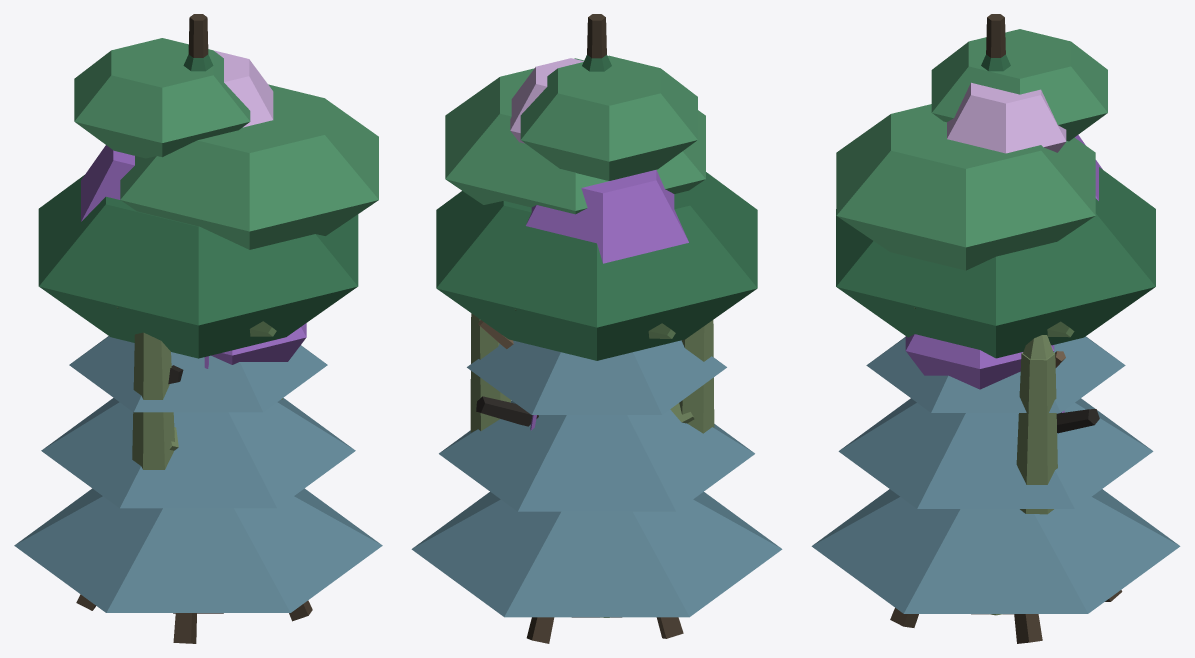
Rendered from biome-flora.glb.
3 views of the same model, side by side, from view 1: azimuth 30°, elevation 25°; view 2: azimuth 150°, elevation 25°; view 3: azimuth 270°, elevation 25° (orthographic).
Parts seen in each view (by area): view 1: canopy-low, tier-0, canopy-mid, tier-1, canopy-top, tier-2, arm-up-1, bladder-top, bladder-mid, bladder-low, trunk.001, prop-root-3; view 2: canopy-low, tier-0, tier-1, canopy-top, tier-2, canopy-mid, bladder-mid, arm-up-1, arm-up-0, bladder-top, limb-0, trunk.001 (+1 smaller); view 3: tier-0, canopy-low, canopy-mid, tier-1, canopy-top, tier-2, bladder-top, arm-up-0, bladder-low, trunk.001, limb-0, prop-root-0 (+1 smaller).
Boxes of the visible parts, x1,y1,x2,y2 form: canopy-low: (38,175,358,358); tier-0: (14,488,382,612); canopy-mid: (120,84,378,249); tier-1: (41,398,355,508); canopy-top: (74,38,250,158); tier-2: (69,336,327,412); arm-up-1: (132,332,174,469); bladder-top: (214,50,273,127); bladder-mid: (81,145,134,221); bladder-low: (211,323,306,364); trunk.001: (188,14,208,57); prop-root-3: (173,613,196,643); canopy-low: (436,172,757,360); tier-0: (411,492,782,617); tier-1: (439,400,754,511); canopy-top: (520,55,697,180); tier-2: (467,340,726,414); canopy-mid: (445,58,705,214); bladder-mid: (526,169,688,263); arm-up-1: (679,320,714,433); arm-up-0: (470,313,510,432); bladder-top: (510,58,583,143); limb-0: (476,396,538,426); trunk.001: (587,14,606,58); tier-0: (811,489,1180,613); canopy-low: (836,167,1155,358); canopy-mid: (836,104,1095,270); tier-1: (838,398,1153,508); canopy-top: (931,29,1107,141); tier-2: (866,336,1125,412); bladder-top: (947,82,1066,153); arm-up-0: (1016,352,1057,514); bladder-low: (905,334,1054,389); trunk.001: (986,14,1005,57); limb-0: (1056,409,1099,433); prop-root-0: (1014,614,1042,643).
Bounding box in the file's own units: 3.77 × 6.46 × 3.7.
